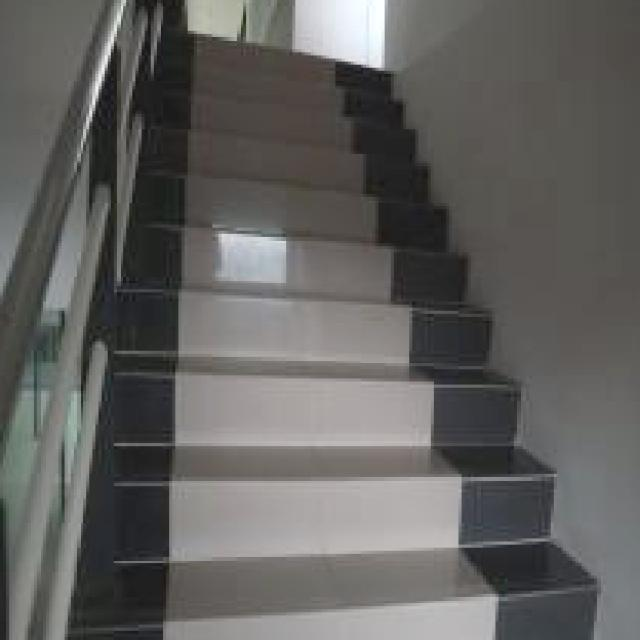upstair: (164, 10, 423, 640)
